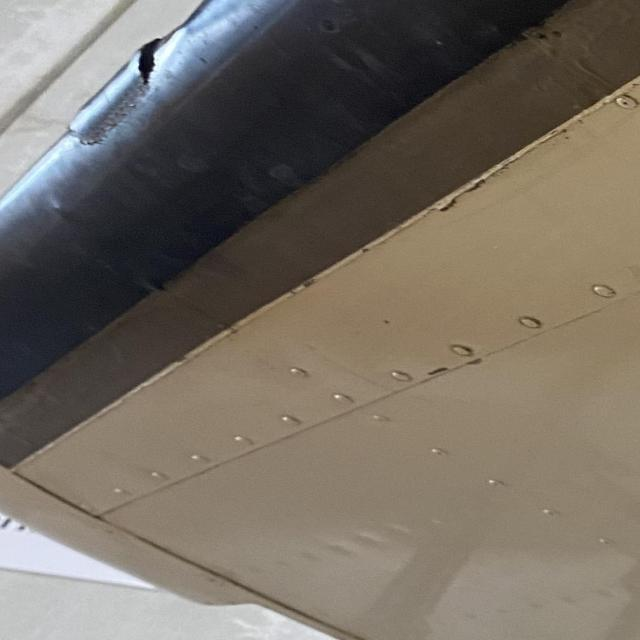Paint-off: (421, 365, 450, 379)
